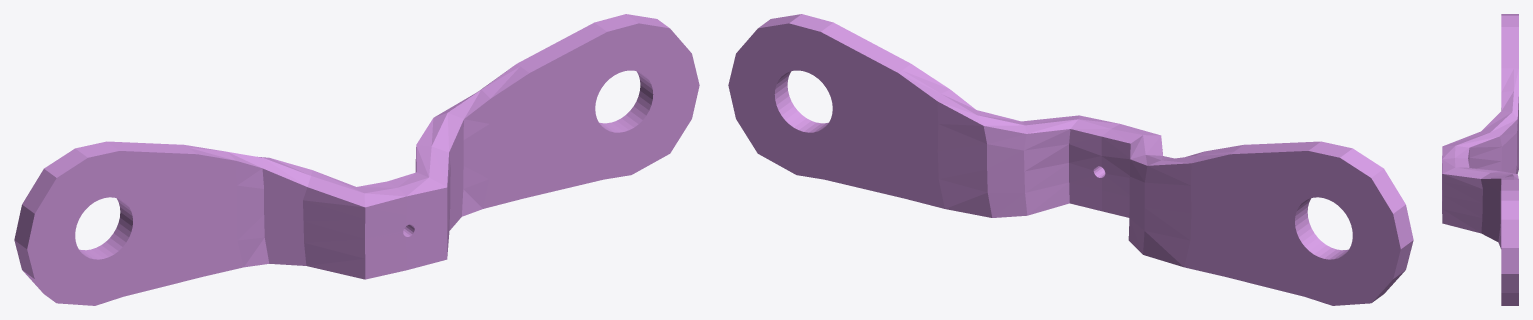
File: Piece 5.obj
3 views of the same model, side by side, from view 1: azimuth 30°, elevation 25°; view 2: azimuth 150°, elevation 25°; view 3: azimuth 270°, elevation 25° (orthographic). The views are drawn at different scales.
Visible parts, largest first — view 1: Object.1; view 2: Object.1; view 3: Object.1.
Part boxes in pixels (x1,y1,x2,y2): Object.1: (14,14,699,305); Object.1: (728,14,1413,305); Object.1: (1442,14,1518,305).
Size of the model in its own units: 139 by 29.67 by 20.06.
